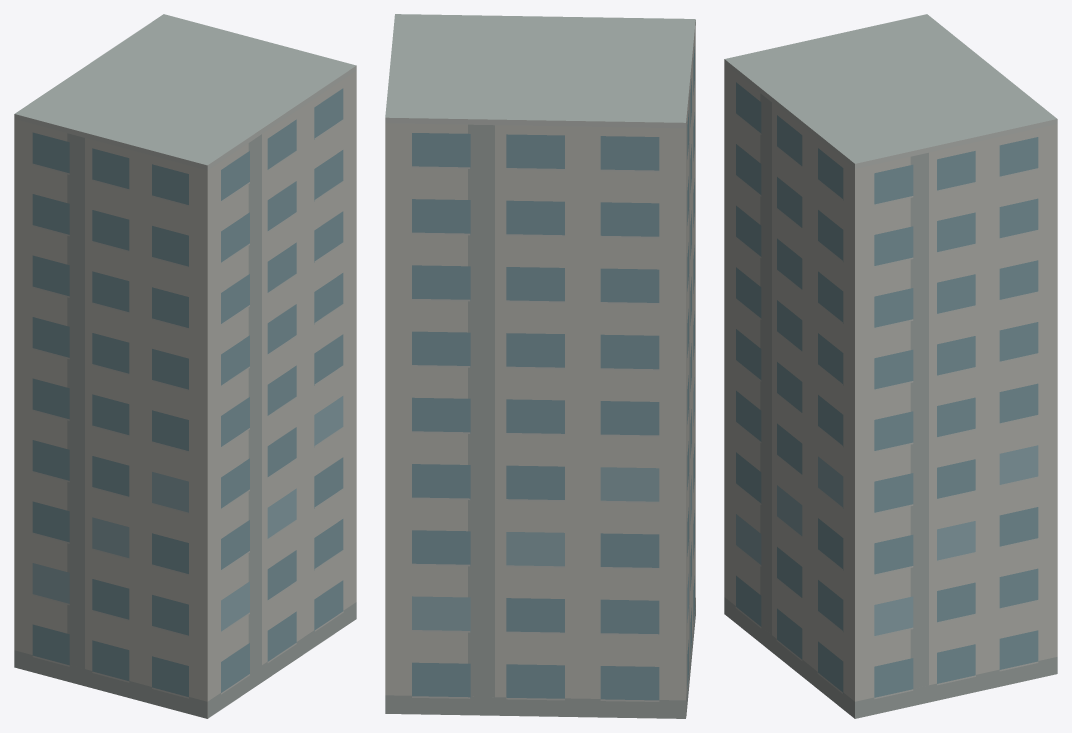
File: residential-5ede2ab5-1438-437c-87aa-bf667caadddf.glb
The picture shows the model from 3 angles, left to right: view 1: azimuth 30°, elevation 25°; view 2: azimuth 150°, elevation 25°; view 3: azimuth 270°, elevation 25°; orthographic projection. The views are drawn at different scales.
Parts seen in each view (by area): view 1: residential-5ede2ab5-1438-437c-87aa-bf667caadddf.tmp; view 2: residential-5ede2ab5-1438-437c-87aa-bf667caadddf.tmp; view 3: residential-5ede2ab5-1438-437c-87aa-bf667caadddf.tmp.
Boxes of the visible parts, x1=… form: residential-5ede2ab5-1438-437c-87aa-bf667caadddf.tmp: x1=14, y1=14, x2=356, y2=718; residential-5ede2ab5-1438-437c-87aa-bf667caadddf.tmp: x1=385, y1=14, x2=695, y2=718; residential-5ede2ab5-1438-437c-87aa-bf667caadddf.tmp: x1=724, y1=14, x2=1057, y2=718.
Size of the model in its own units: 15.06 by 26 by 14.15.
